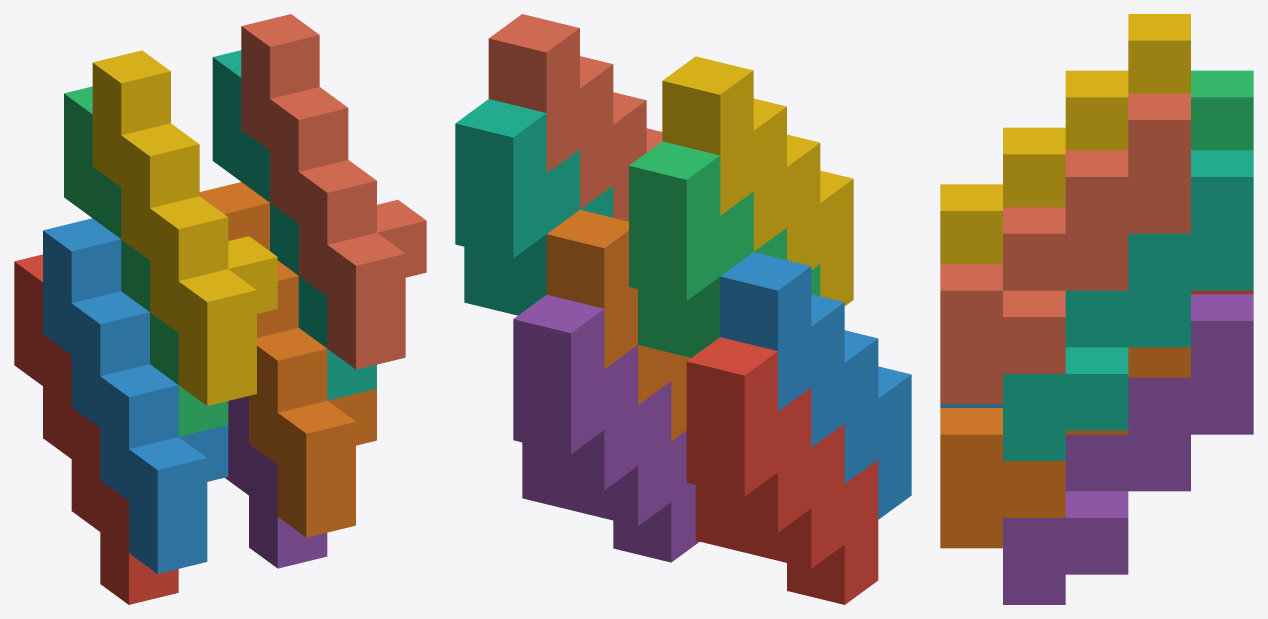
The model's file is tiling.obj.
3 views of the same model, side by side, from view 1: azimuth 30°, elevation 25°; view 2: azimuth 150°, elevation 25°; view 3: azimuth 270°, elevation 25° (orthographic). The views are drawn at different scales.
Parts seen in each view (by area): view 1: copy_1_domain_8, copy_1_domain_4, copy_1_domain_2, copy_1_domain_6, copy_1_domain_1, copy_1_domain_7, copy_1_domain_3, copy_1_domain_5; view 2: copy_1_domain_1, copy_1_domain_5, copy_1_domain_2, copy_1_domain_4, copy_1_domain_3, copy_1_domain_7, copy_1_domain_8, copy_1_domain_6; view 3: copy_1_domain_8, copy_1_domain_5, copy_1_domain_7, copy_1_domain_4, copy_1_domain_6, copy_1_domain_3.
Boxes of the visible parts, left/top/right/bottom form: copy_1_domain_8: left=241, top=14, right=426, bottom=369; copy_1_domain_4: left=92, top=50, right=277, bottom=405; copy_1_domain_2: left=43, top=218, right=228, bottom=573; copy_1_domain_6: left=199, top=182, right=376, bottom=537; copy_1_domain_1: left=14, top=254, right=178, bottom=604; copy_1_domain_7: left=212, top=50, right=376, bottom=400; copy_1_domain_3: left=64, top=86, right=228, bottom=436; copy_1_domain_5: left=225, top=396, right=327, bottom=568; copy_1_domain_1: left=686, top=337, right=878, bottom=604; copy_1_domain_5: left=513, top=294, right=699, bottom=562; copy_1_domain_2: left=720, top=252, right=911, bottom=519; copy_1_domain_4: left=662, top=56, right=853, bottom=305; copy_1_domain_3: left=629, top=141, right=820, bottom=357; copy_1_domain_7: left=455, top=99, right=613, bottom=315; copy_1_domain_8: left=488, top=14, right=662, bottom=221; copy_1_domain_6: left=546, top=210, right=690, bottom=440; copy_1_domain_8: left=940, top=93, right=1190, bottom=404; copy_1_domain_5: left=1003, top=294, right=1253, bottom=604; copy_1_domain_7: left=1003, top=150, right=1253, bottom=460; copy_1_domain_4: left=940, top=14, right=1190, bottom=263; copy_1_domain_6: left=940, top=347, right=1190, bottom=548; copy_1_domain_3: left=1191, top=70, right=1253, bottom=150.
Size of the model in its own units: 6 by 9 by 5.
